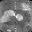people: (3, 9, 16, 17), (0, 16, 11, 23), (15, 14, 23, 22)
